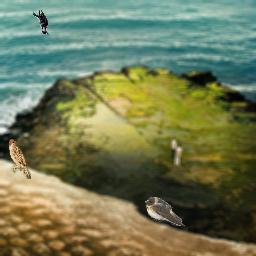Sparrow: (9, 139, 31, 179)
Swallow: (145, 197, 185, 226)
Woodpecker: (33, 10, 49, 35)
